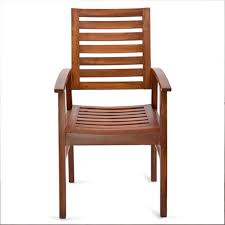tiyarina: (46, 4, 179, 212)
